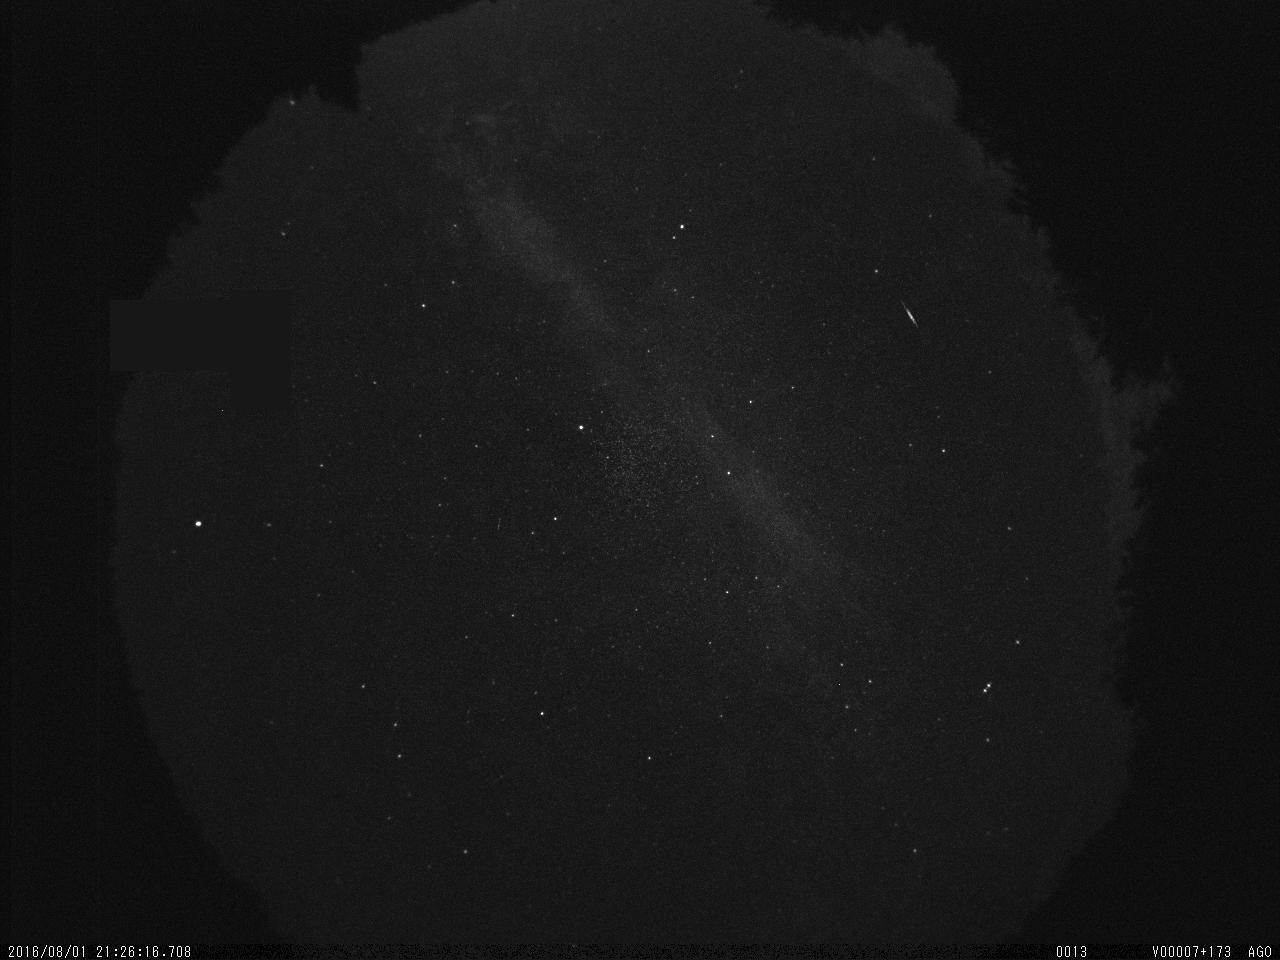meteor: (895, 297, 932, 337)
